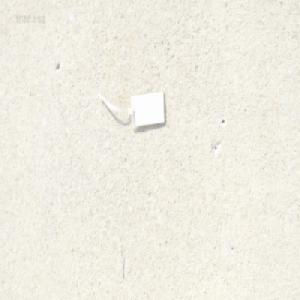LuggageTag: (95, 74, 167, 131)
